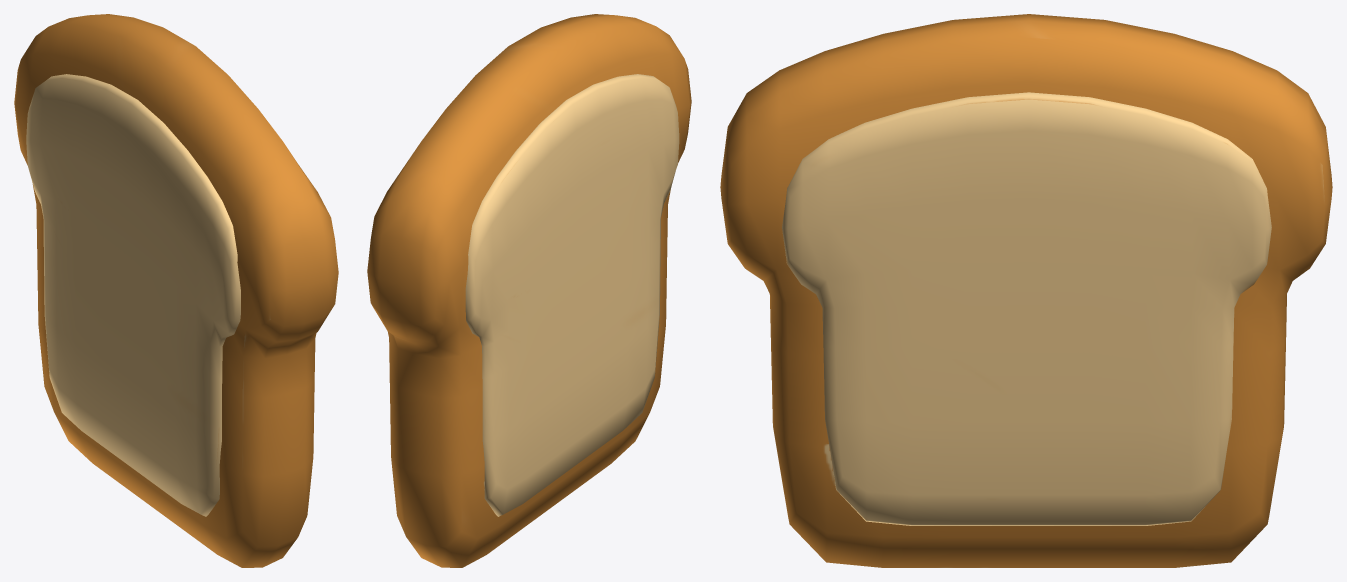
Rendered from pan  rebanada uv.fbx.
3 renders of one model, left to right at view 1: azimuth 30°, elevation 25°; view 2: azimuth 150°, elevation 25°; view 3: azimuth 270°, elevation 25°, orthographic. The views are drawn at different scales.
Parts seen in each view (by area): view 1: Rebanada pan; view 2: Rebanada pan; view 3: Rebanada pan.
Part boxes in pixels (x1,y1,x2,y2): Rebanada pan: (14,14,338,567); Rebanada pan: (367,14,691,567); Rebanada pan: (720,14,1332,567).
Size of the model in its own units: 20.83 by 93.86 by 96.29.
